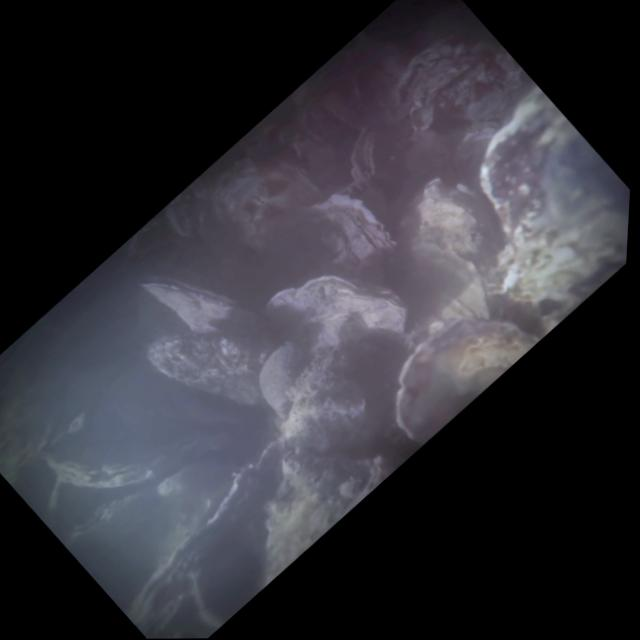Oyster-Closed: (128, 441, 287, 639), (35, 421, 239, 484), (263, 272, 418, 350), (136, 270, 280, 343), (142, 332, 269, 413), (292, 191, 399, 265), (63, 483, 156, 551), (345, 124, 396, 198)
Oyster-Indeterminate: (480, 85, 630, 331), (286, 308, 419, 478), (396, 175, 506, 359), (392, 315, 540, 447), (258, 451, 385, 584), (391, 34, 509, 139), (257, 337, 315, 419)
